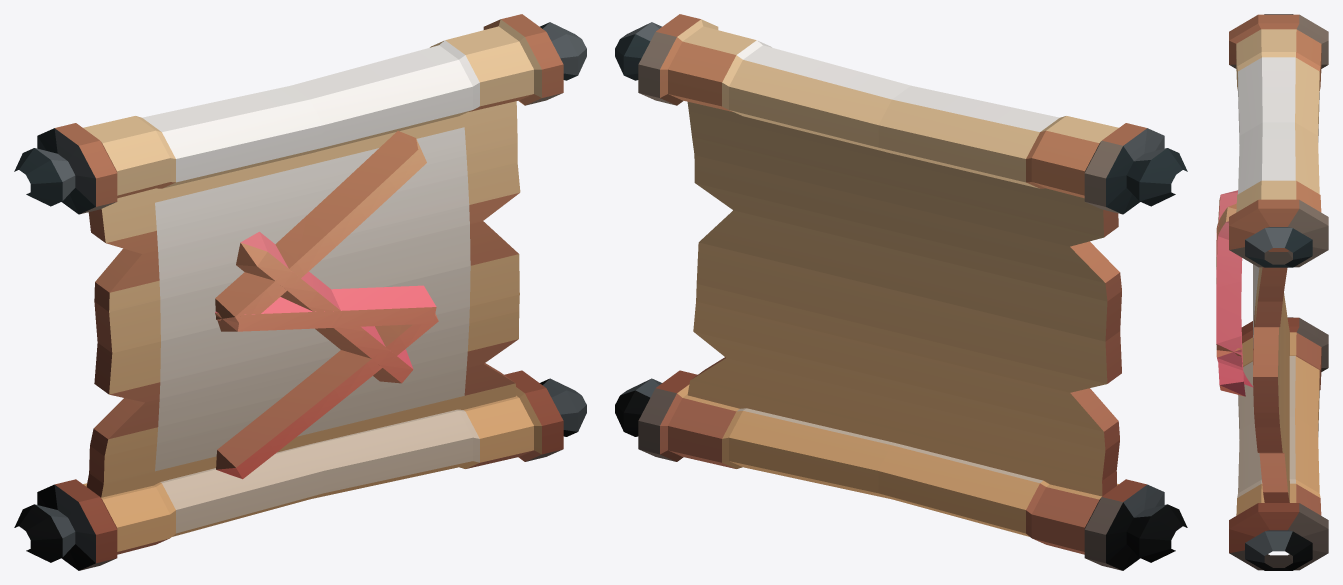
File: source.glb
3 views of the same model, side by side, from view 1: azimuth 30°, elevation 25°; view 2: azimuth 150°, elevation 25°; view 3: azimuth 270°, elevation 25° (orthographic). The views are drawn at different scales.
Visible parts, largest first — view 1: model; view 2: model; view 3: model.
Part boxes in pixels (x1,y1,x2,y2): model: (14, 14, 586, 570); model: (615, 14, 1187, 570); model: (1216, 14, 1328, 570).
Bounding box in the file's own units: 0.88 × 0.64 × 0.18.
Materials: 1 (1 with a texture image).
